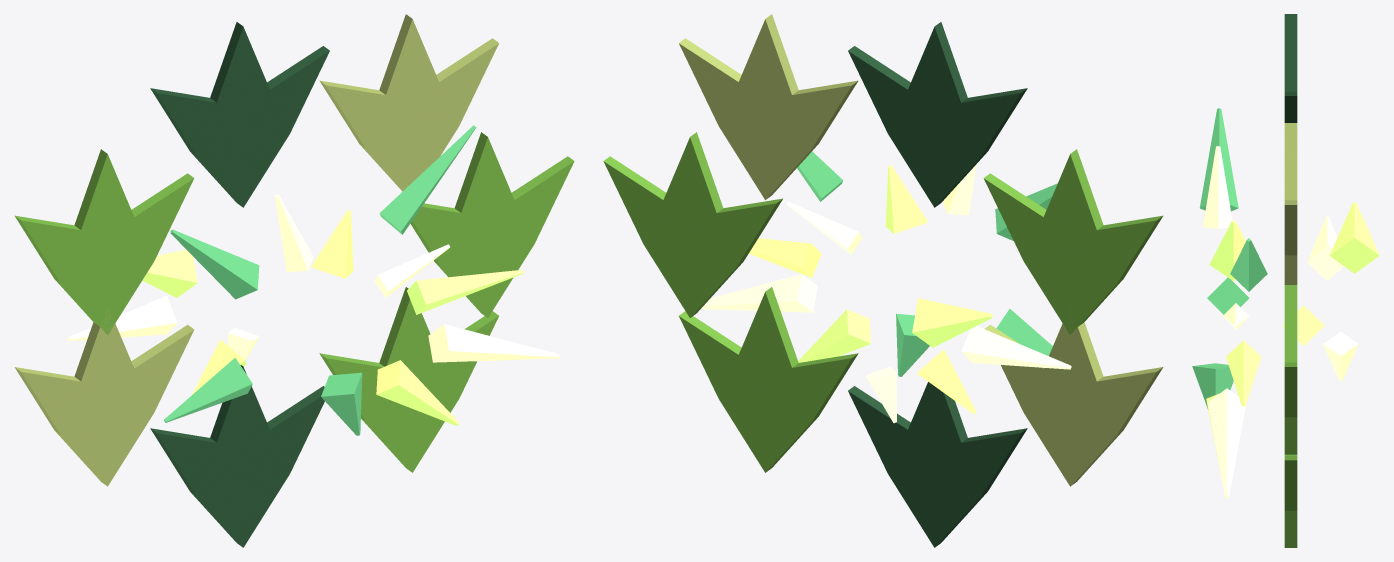
Rendered from leaf.glb.
3 renders of one model, left to right at view 1: azimuth 30°, elevation 25°; view 2: azimuth 150°, elevation 25°; view 3: azimuth 270°, elevation 25°, orthographic. The views are drawn at different scales.
Visible parts, largest first — view 1: Weed Leaf dimensional effect.001; view 2: Weed Leaf dimensional effect.001; view 3: Weed Leaf dimensional effect.001.
Part boxes in pixels (left/top/right/bottom): Weed Leaf dimensional effect.001: left=14, top=14, right=574, bottom=547; Weed Leaf dimensional effect.001: left=603, top=14, right=1163, bottom=547; Weed Leaf dimensional effect.001: left=1192, top=14, right=1379, bottom=547.
Bounding box in the file's own units: 1.66 × 1.49 × 0.5208.
Materials: 4 (1 with a texture image).
